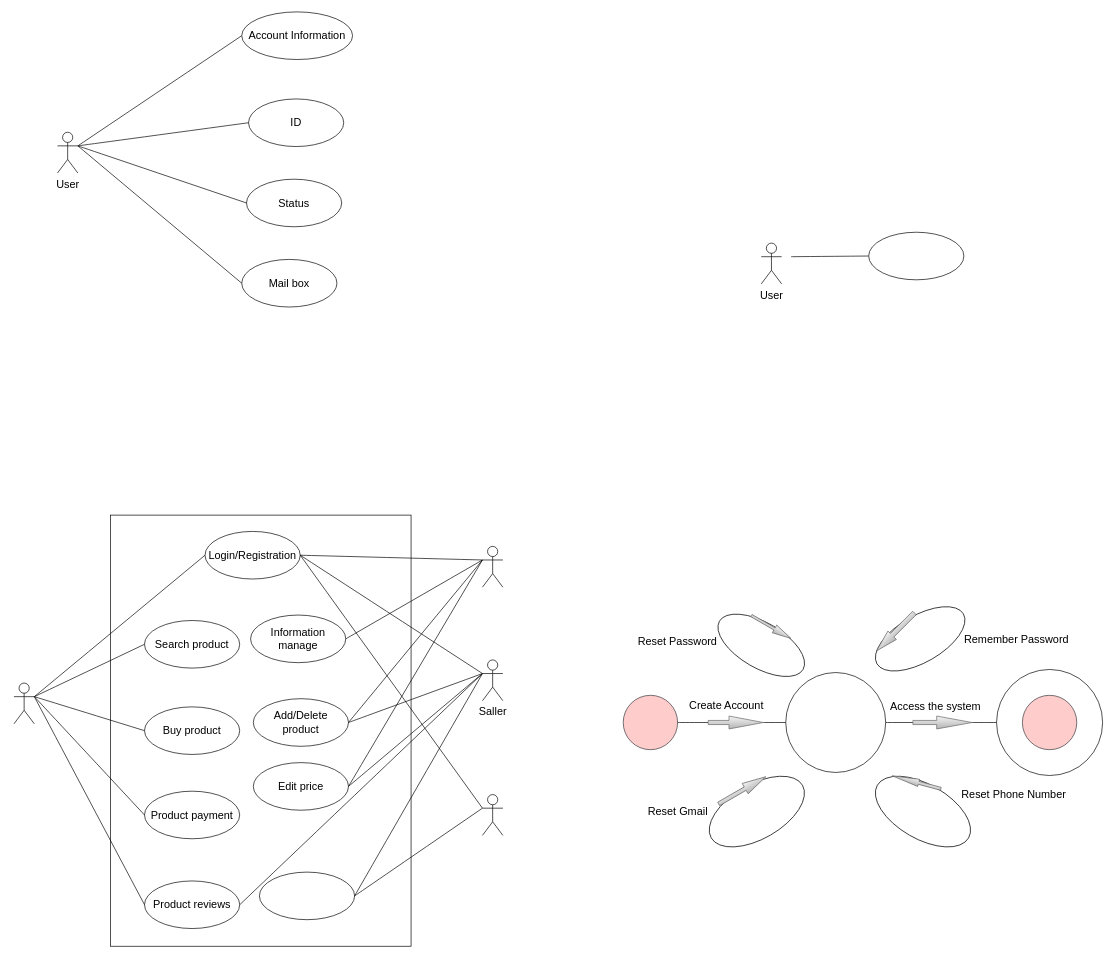
Some shapes in this 1115 by 958 pixel diagram are drawn without their labels. Here are the shapes that lost their labels. From the top down, the box of each, then its label:
(868, 232, 964, 280): Volunteer
(482, 546, 503, 587): Adminstrator
(13, 682, 34, 724): Actor
(482, 794, 503, 835): Shipper
(259, 871, 355, 920): Check products
